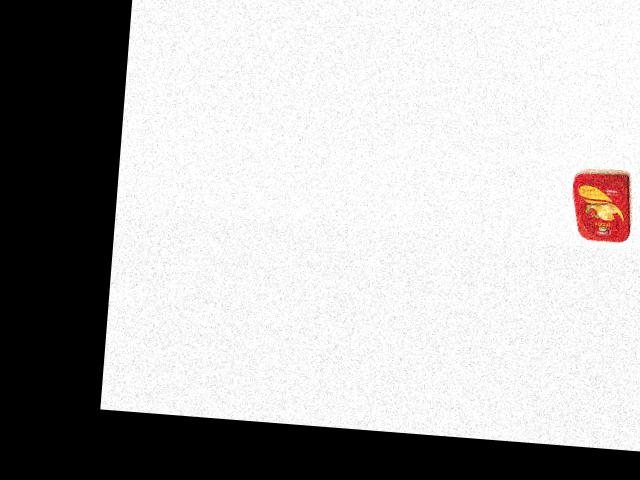cheese: (568, 167, 636, 247)
